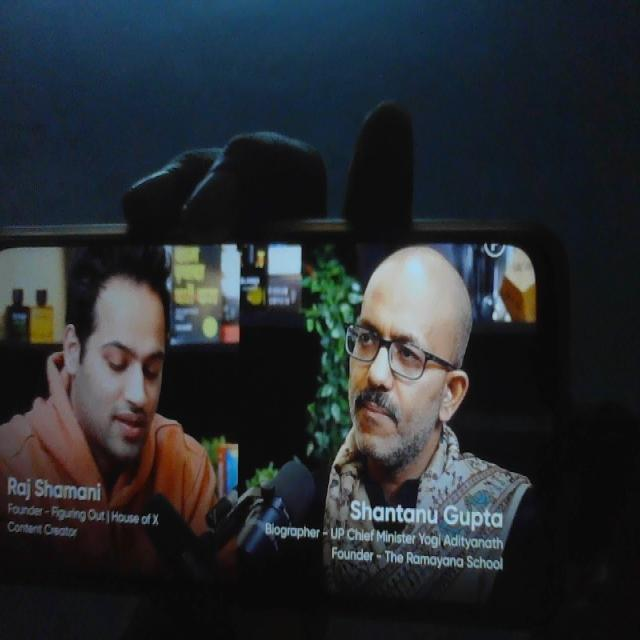fake: (332, 221, 465, 472), (50, 225, 178, 467)
